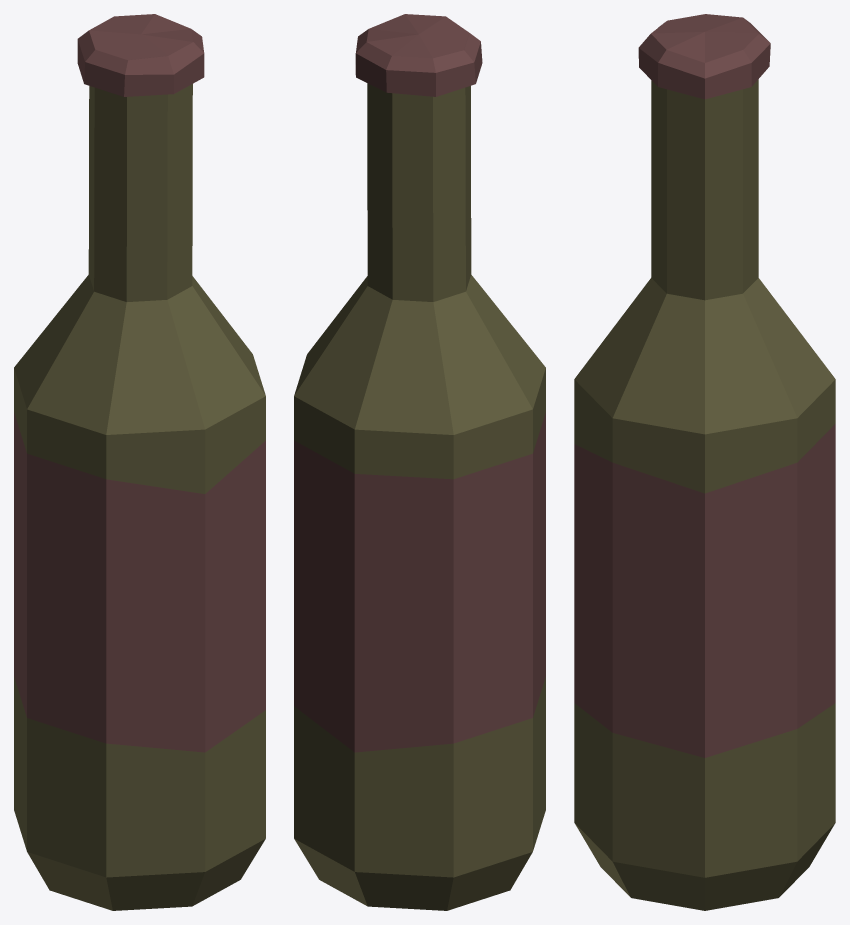
The model's file is BeerBottle_Mesh.fbx.
3 renders of one model, left to right at view 1: azimuth 30°, elevation 25°; view 2: azimuth 150°, elevation 25°; view 3: azimuth 270°, elevation 25°, orthographic.
Visible parts, largest first — view 1: BeerBottle; view 2: BeerBottle; view 3: BeerBottle.
Part boxes in pixels (x1=…): BeerBottle: x1=14, y1=14, x2=265, y2=910; BeerBottle: x1=294, y1=14, x2=545, y2=910; BeerBottle: x1=574, y1=14, x2=835, y2=910.
Size of the model in its own units: 7 by 24.69 by 7.
